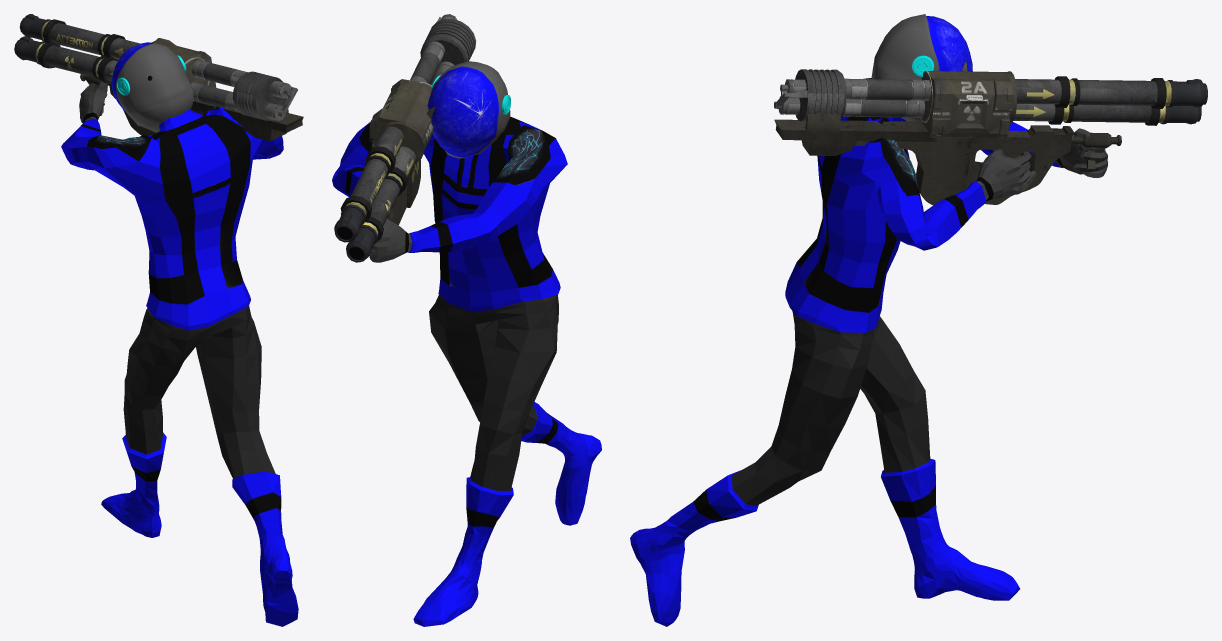
3 renders of one model, left to right at view 1: azimuth 30°, elevation 25°; view 2: azimuth 150°, elevation 25°; view 3: azimuth 270°, elevation 25°, orthographic. The views are drawn at different scales.
Visible parts, largest first — view 1: Brazos2, Piernas1, group1_polySurface5, Cabeza1; view 2: Piernas1, Brazos2, group1_polySurface5, Cabeza1; view 3: Piernas1, group1_polySurface5, Brazos2, Cabeza1.
Boxes of the visible parts, x1,y1,x2,y2 form: Brazos2: (61, 80, 283, 330); Piernas1: (101, 306, 298, 626); group1_polySurface5: (14, 14, 303, 141); Cabeza1: (111, 42, 193, 132); Piernas1: (413, 294, 601, 626); Brazos2: (332, 116, 567, 311); group1_polySurface5: (334, 14, 476, 262); Cabeza1: (427, 61, 510, 158); Piernas1: (630, 311, 1019, 626); group1_polySurface5: (774, 62, 1207, 205); Brazos2: (785, 77, 1107, 332); Cabeza1: (871, 14, 972, 121).
Size of the model in its own units: 67.18 by 169 by 149.
